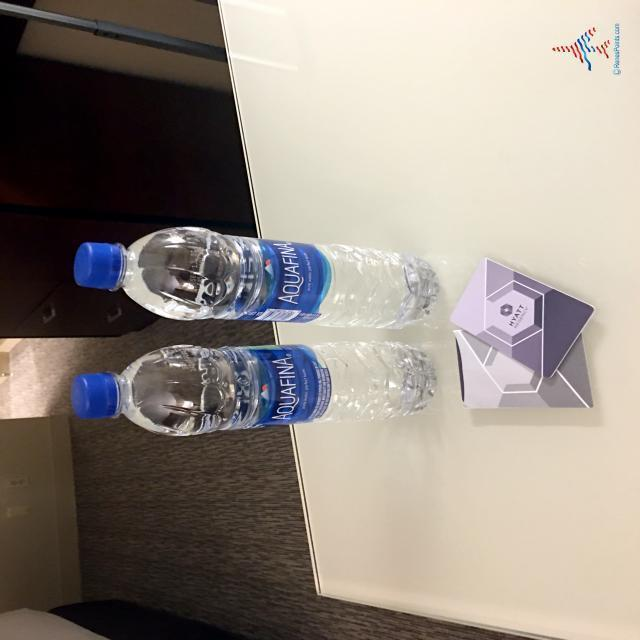plastic_bottle: (73, 227, 440, 330), (70, 342, 438, 436)
